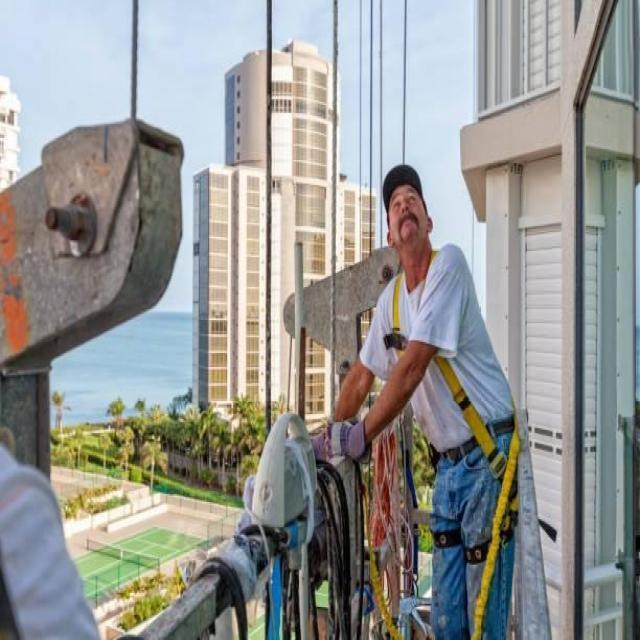Arnes_seguridad: (390, 247, 528, 575)
